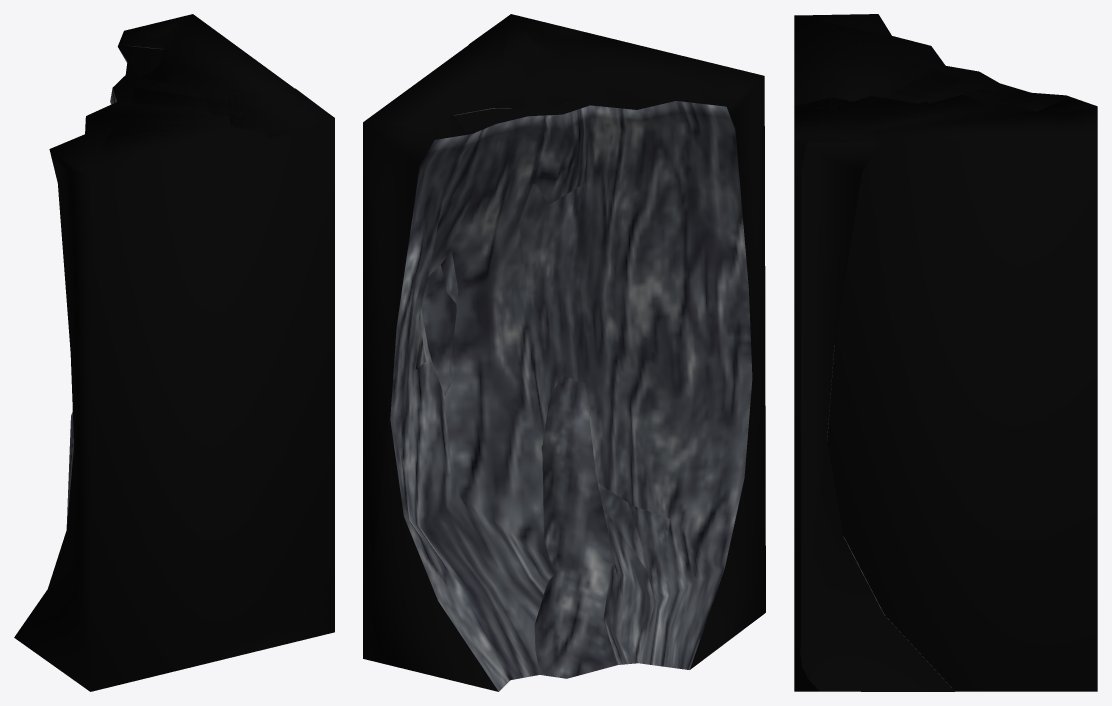
Rendered from cave.glb.
3 renders of one model, left to right at view 1: azimuth 30°, elevation 25°; view 2: azimuth 150°, elevation 25°; view 3: azimuth 270°, elevation 25°, orthographic. The views are drawn at different scales.
Parts seen in each view (by area): view 1: CaveCornerConcave2, CaveWallStraight1, CaveCornerConcave1, CaveWallStraight2; view 2: CaveCornerConcave2, CaveWallStraight1, CaveCornerConcave1, CaveStalagmite, CaveWallStraight2; view 3: CaveWallStraight1, CaveCornerConvex, CaveCornerConcave2, CaveCornerConcave1, CaveWallStraight2.
Boxes of the visible parts, x1,y1,x2,y2 form: CaveCornerConcave2: [14, 16, 334, 691]; CaveWallStraight1: [124, 14, 334, 663]; CaveCornerConcave1: [49, 14, 331, 176]; CaveWallStraight2: [123, 14, 331, 134]; CaveCornerConcave2: [383, 16, 765, 679]; CaveWallStraight1: [363, 14, 582, 691]; CaveCornerConcave1: [363, 14, 762, 568]; CaveStalagmite: [534, 375, 617, 678]; CaveWallStraight2: [365, 15, 582, 371]; CaveWallStraight1: [794, 94, 1097, 691]; CaveCornerConvex: [794, 107, 955, 691]; CaveCornerConcave2: [794, 14, 1097, 137]; CaveCornerConcave1: [794, 14, 1096, 142]; CaveWallStraight2: [794, 97, 1097, 141].
Size of the model in its own units: 1 by 2 by 1.
2 materials, 1 textured.
